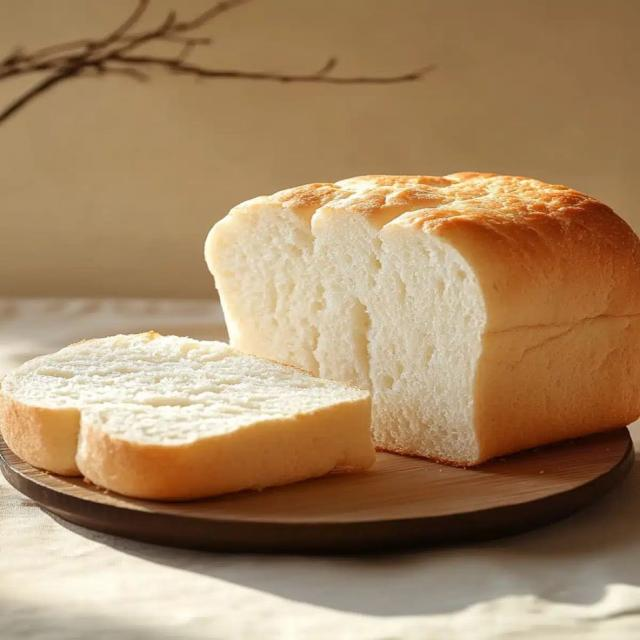sliced_bread: (0, 331, 375, 500)
